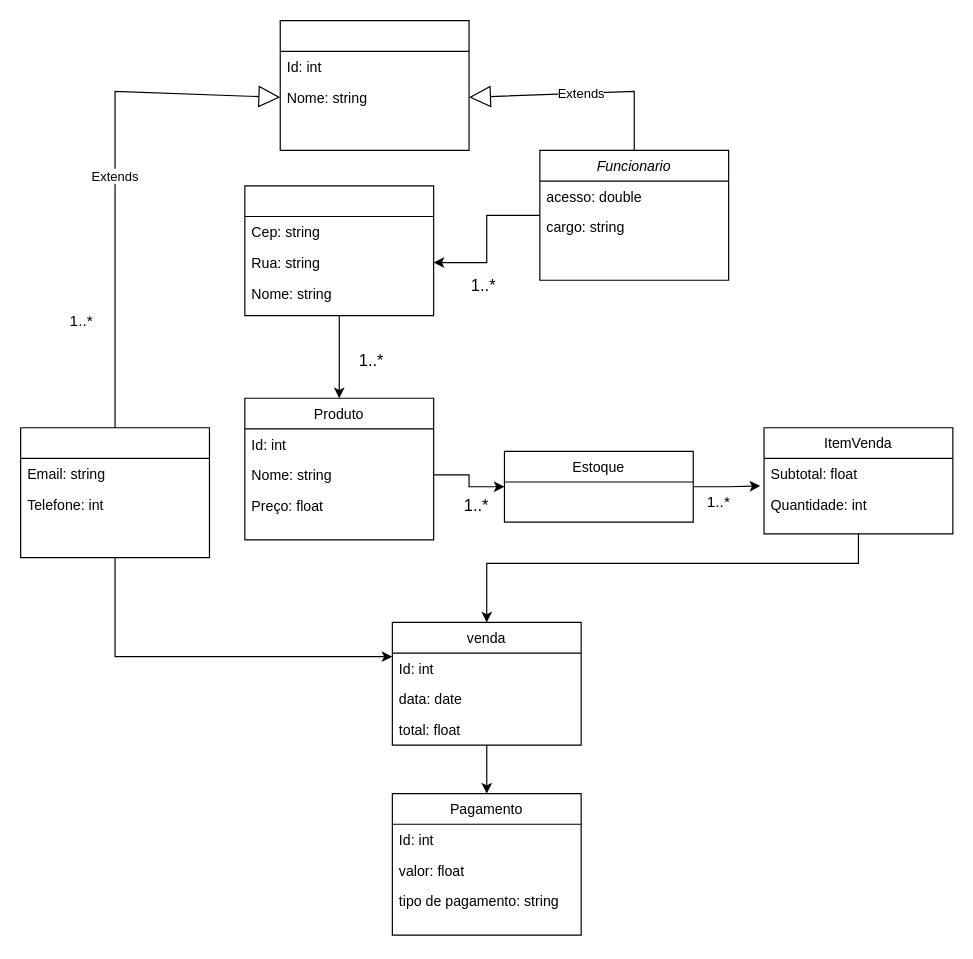
This 973x959 diagram has some shape labels left out. The shapes that lost their labels are listed below. From the top down, each one's box as (x1, y1, x2, y2) in pixels, then its label:
(279, 19, 469, 150): Pessoa
(244, 185, 434, 316): Loja
(19, 427, 209, 558): Cliente
